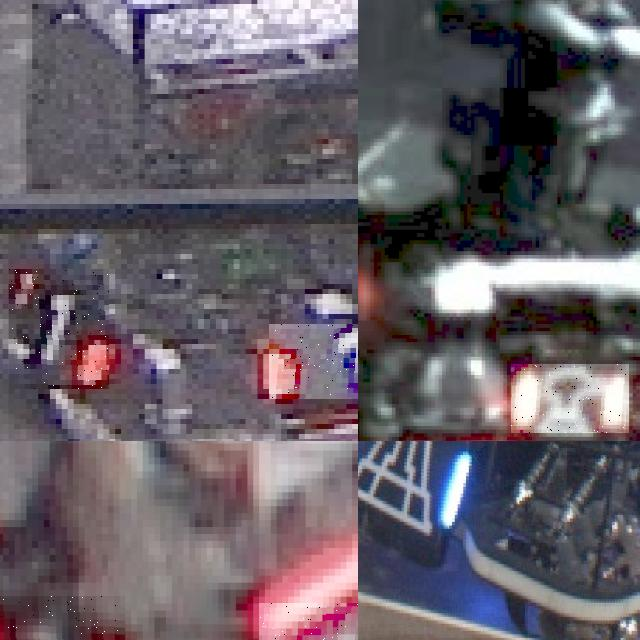R1: (9, 269, 109, 389), (269, 324, 358, 399), (0, 596, 125, 640)
Rs: (511, 364, 629, 433)
